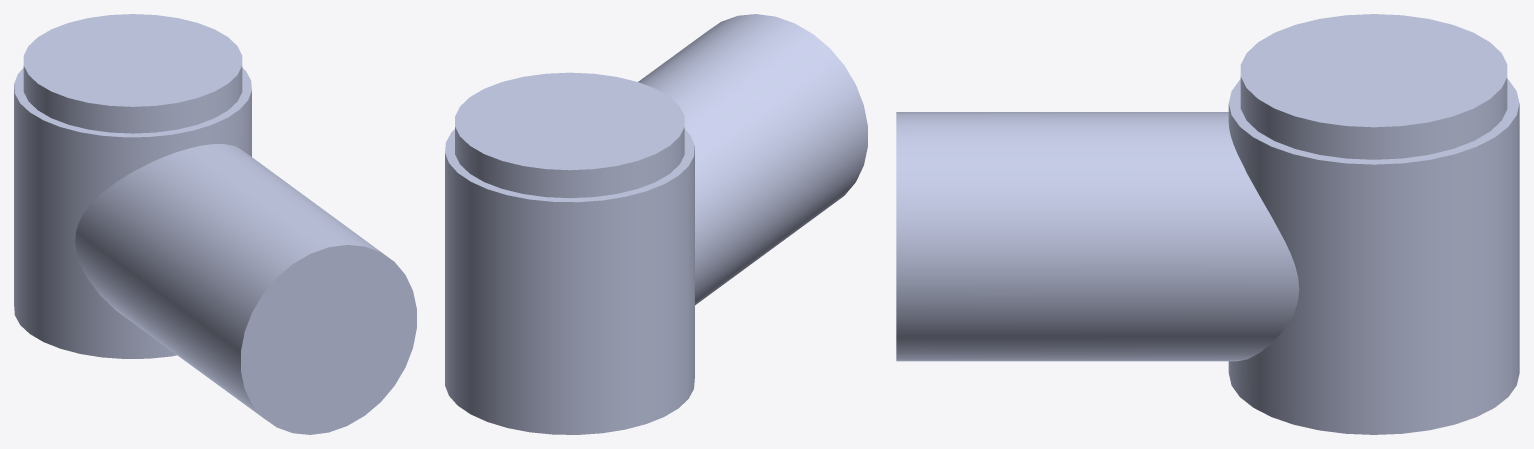
The picture shows the model from 3 angles, left to right: view 1: azimuth 30°, elevation 25°; view 2: azimuth 150°, elevation 25°; view 3: azimuth 270°, elevation 25°; orthographic projection. The views are drawn at different scales.
Visible parts, largest first — view 1: FBXASC060LINK2BFBXASC062-FBXASC060FBXASC195FBXASC135FBXASC19; view 2: FBXASC060LINK2BFBXASC062-FBXASC060FBXASC195FBXASC135FBXASC19; view 3: FBXASC060LINK2BFBXASC062-FBXASC060FBXASC195FBXASC135FBXASC19.
Boxes of the visible parts, left/top/right/bottom form: FBXASC060LINK2BFBXASC062-FBXASC060FBXASC195FBXASC135FBXASC19: left=14, top=14, right=416, bottom=434; FBXASC060LINK2BFBXASC062-FBXASC060FBXASC195FBXASC135FBXASC19: left=445, top=14, right=867, bottom=434; FBXASC060LINK2BFBXASC062-FBXASC060FBXASC195FBXASC135FBXASC19: left=896, top=14, right=1519, bottom=434.
Size of the model in its own units: 0.077 by 0.165 by 0.0885.
